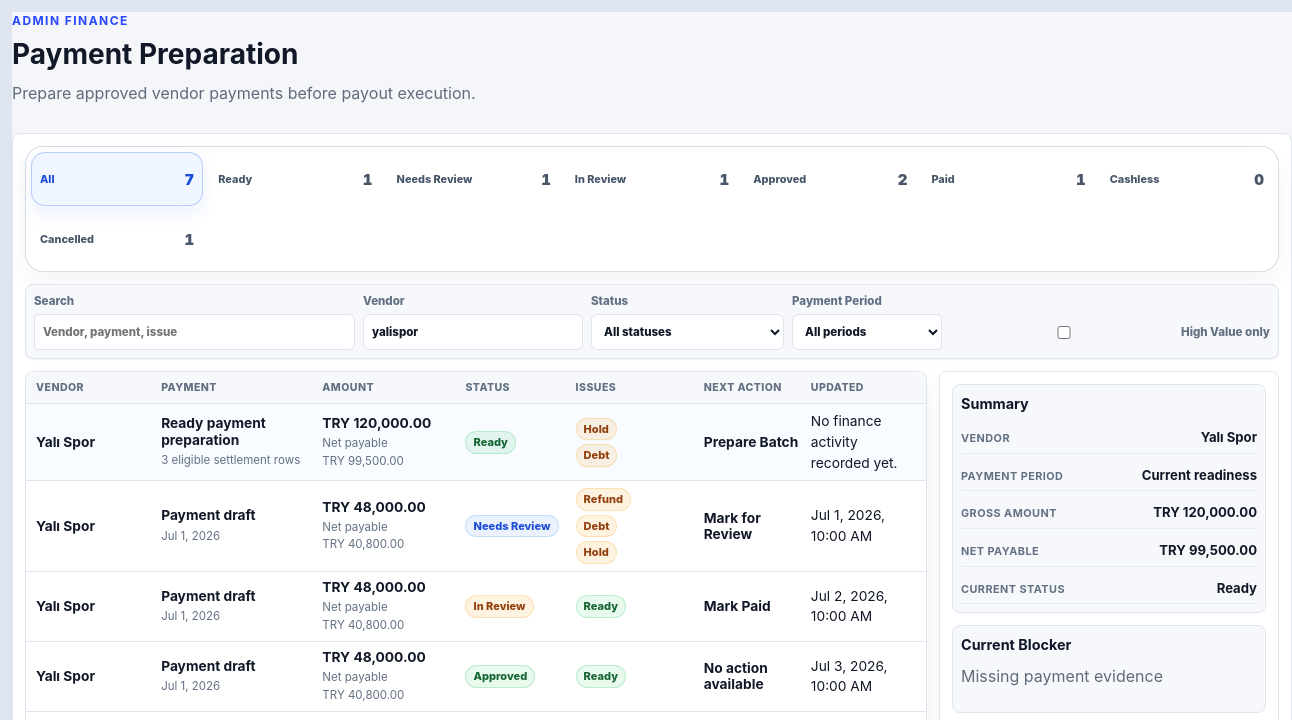
Scenario: AdminPaymentPreparationPage › filters queue records by workflow tab
The width and height of the screenshot is (1292, 720).
Expected: the heading "Payment Preparation" is shown, [12,37,298,71]
Click the button "Paid 1": (1009, 179) [922,152,1095,206]
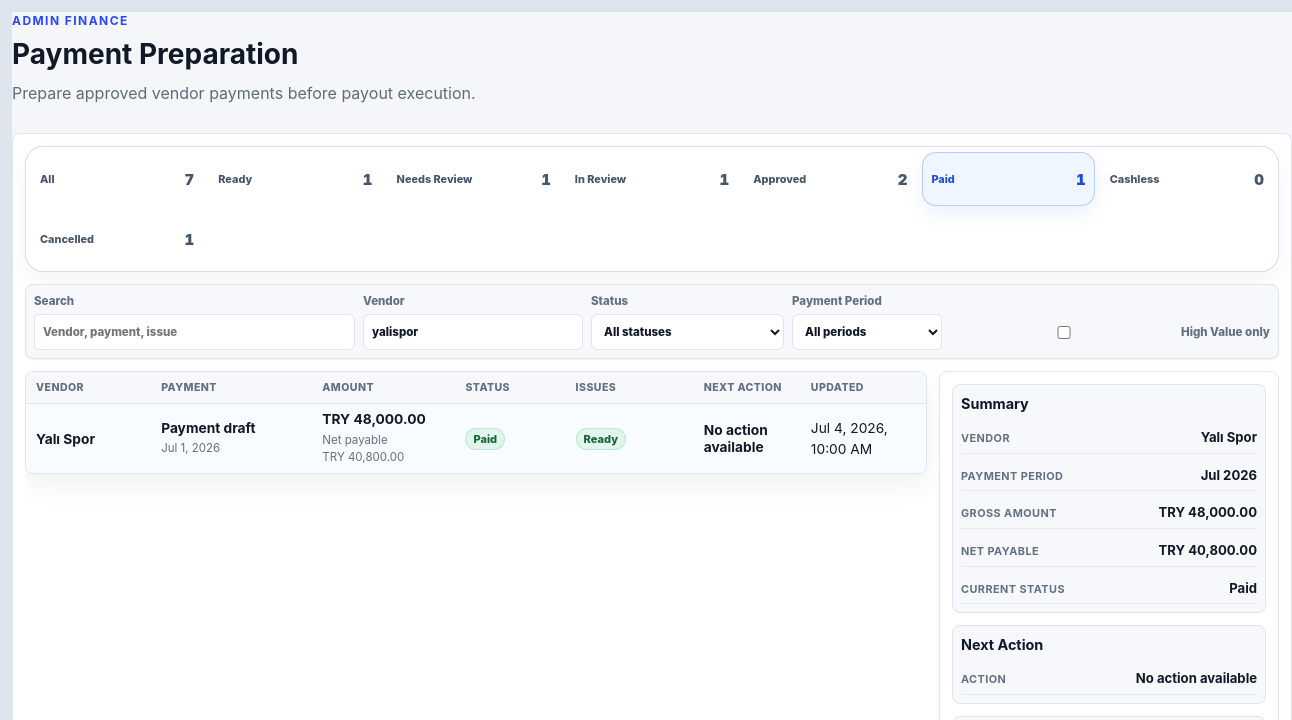
Expected: the 1st text "Paid" is shown, [931,172,955,186]
Expected: the button "Ready payment preparation" is gone
